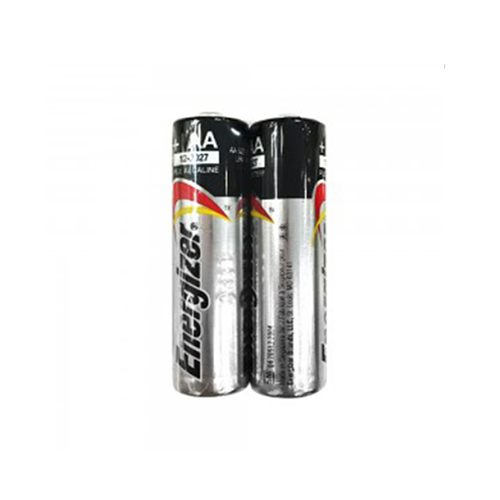battery: (168, 111, 249, 398), (251, 114, 327, 396)
